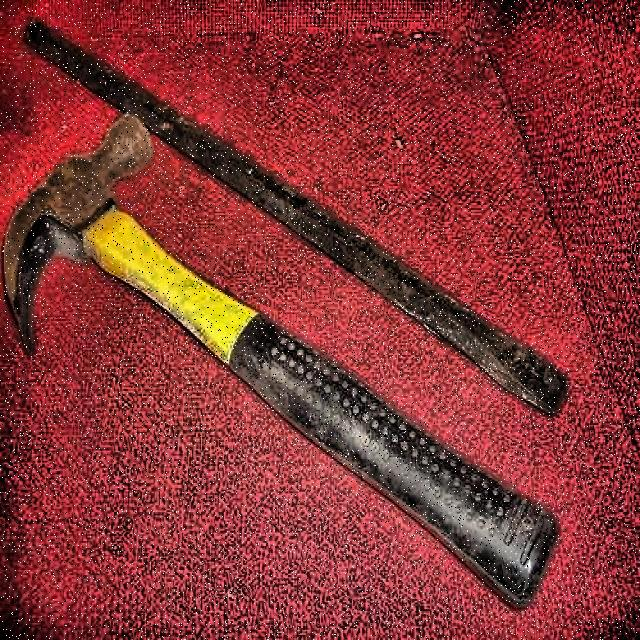hammer: (2, 110, 558, 607)
